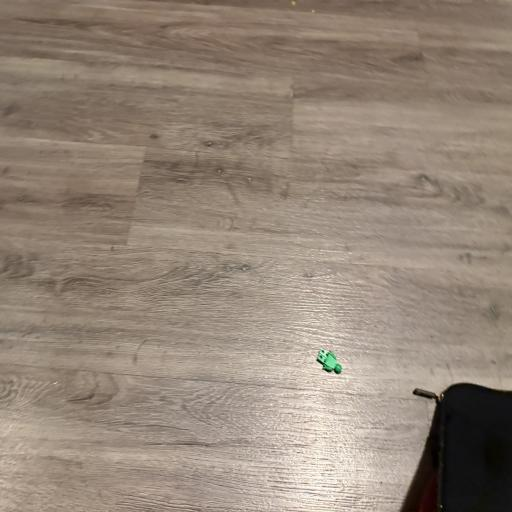Minifig: (317, 349, 342, 373)
